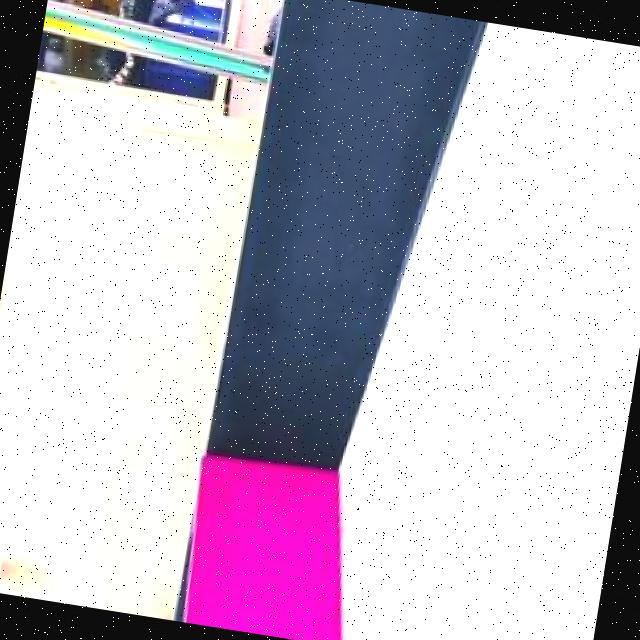xparking: (187, 457, 336, 640)
